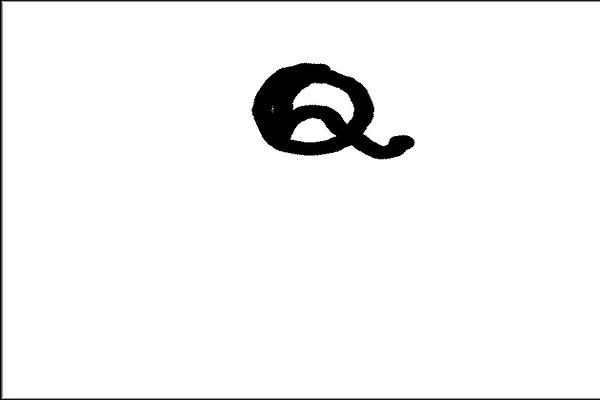Q: (245, 57, 427, 172)
